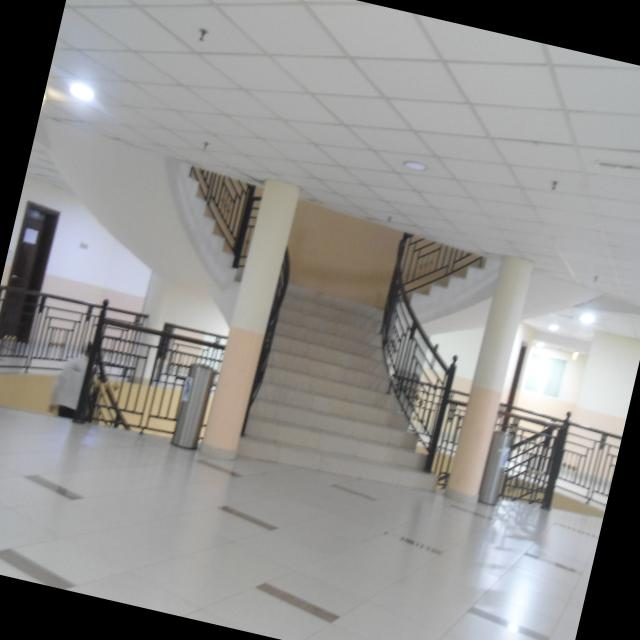door: (0, 203, 64, 360)
dustbin: (155, 356, 217, 458), (467, 412, 522, 526)
railing: (373, 355, 628, 490), (0, 274, 232, 406), (352, 252, 490, 472), (160, 136, 308, 302), (49, 270, 155, 466), (482, 405, 594, 522), (393, 213, 485, 328)
stairs: (235, 255, 464, 504)
